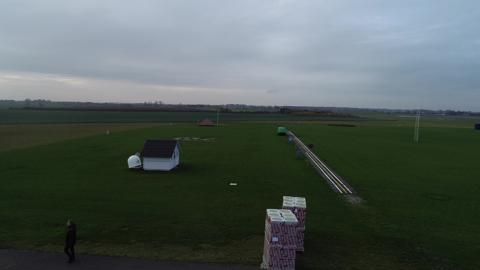RockwoolPallet: (280, 191, 308, 250)
